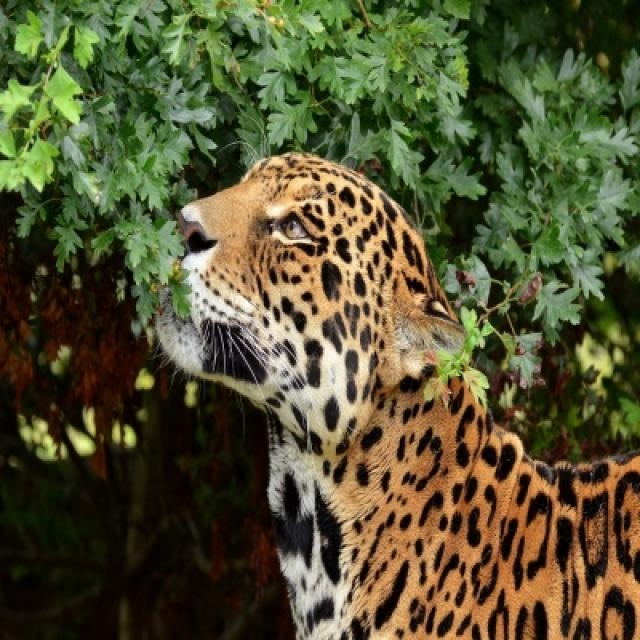Jaguar: (158, 152, 638, 638)
